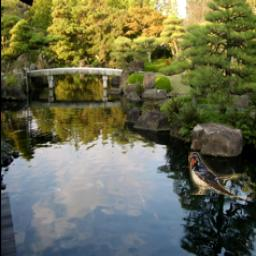Swallow: (189, 152, 248, 195)
